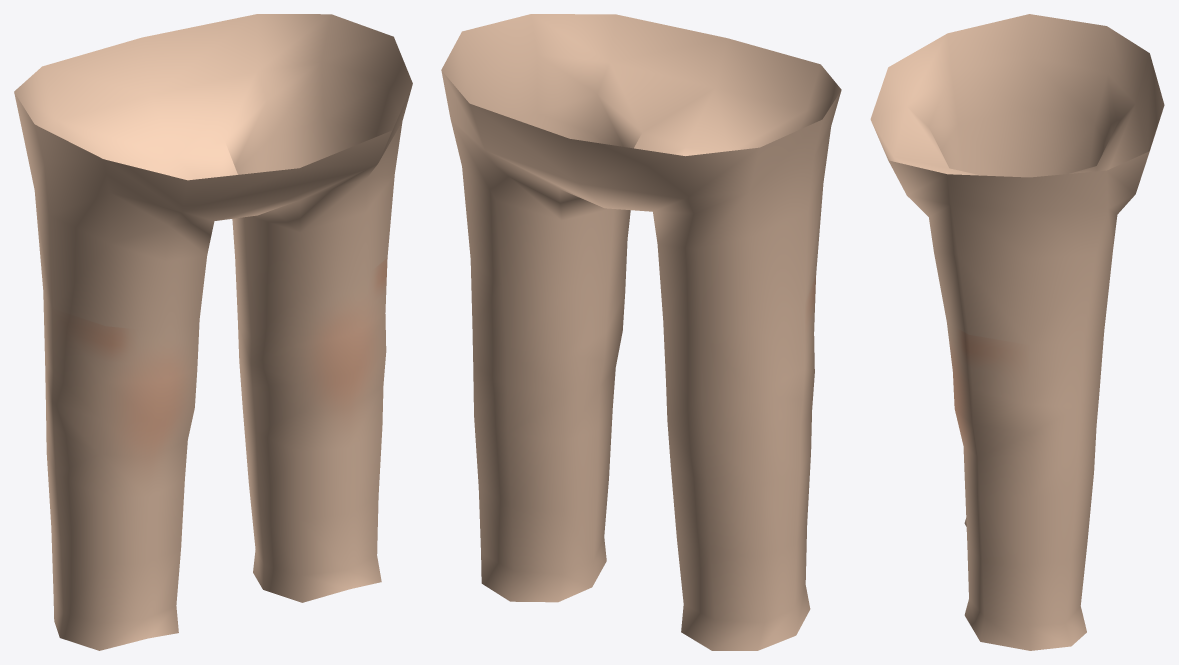
The model's file is Body_Bottom_2.fbx.
3 renders of one model, left to right at view 1: azimuth 30°, elevation 25°; view 2: azimuth 150°, elevation 25°; view 3: azimuth 270°, elevation 25°, orthographic. The views are drawn at different scales.
Visible parts, largest first — view 1: Body_Bottom_2; view 2: Body_Bottom_2; view 3: Body_Bottom_2.
Boxes of the visible parts, x1=… form: Body_Bottom_2: x1=14, y1=14, x2=412, y2=650; Body_Bottom_2: x1=441, y1=14, x2=841, y2=650; Body_Bottom_2: x1=870, y1=14, x2=1164, y2=650.
Bounding box in the file's own units: 36.21 × 50.69 × 27.53.
